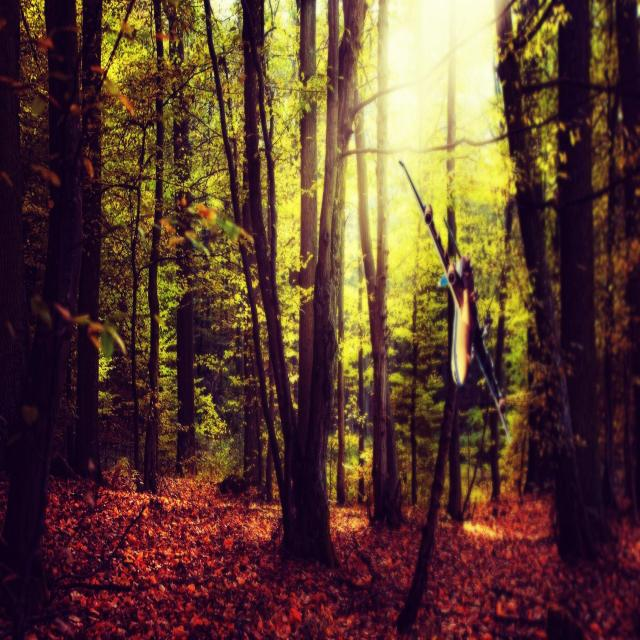airplane: (398, 159, 511, 444)
